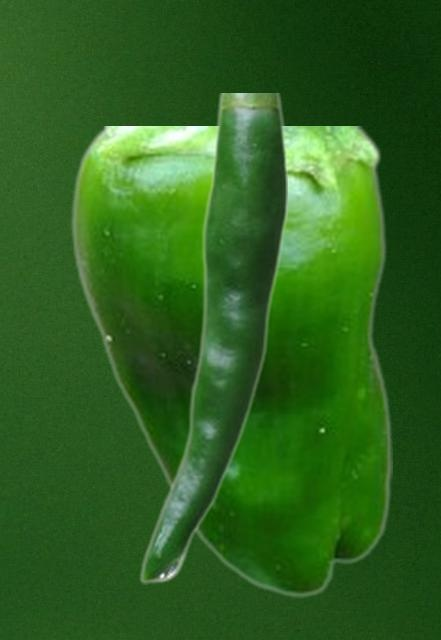green_chili: (69, 126, 391, 597), (138, 93, 286, 583)
